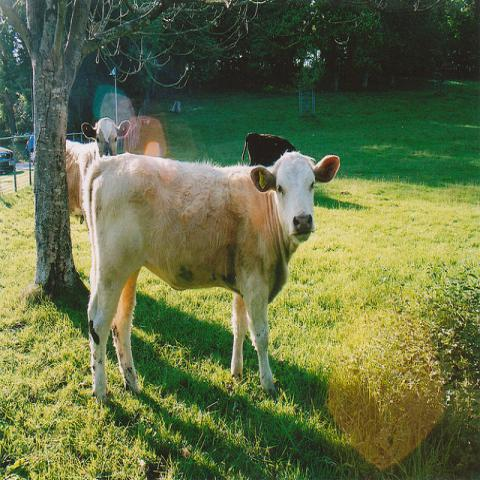car: (0, 145, 15, 176), (26, 132, 34, 158)
